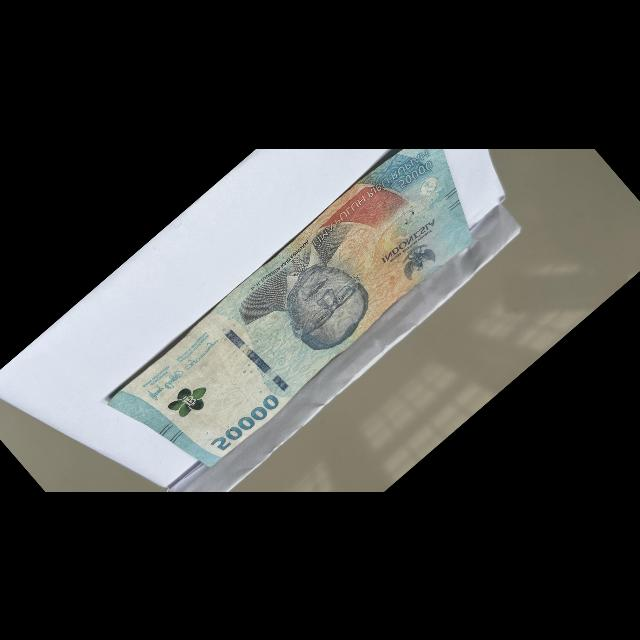Palsu-50k: (102, 148, 480, 497)
Tinta-Palsu-50k: (164, 375, 216, 425)
